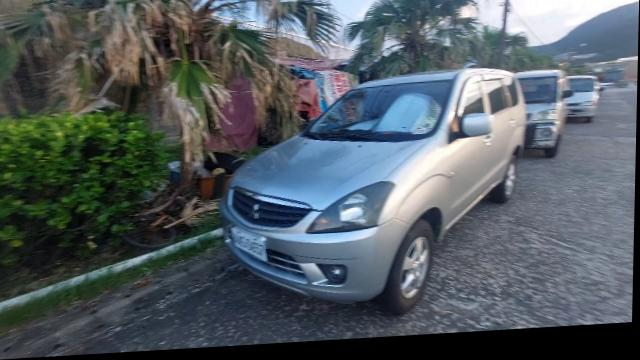pollute: (124, 156, 250, 251), (266, 58, 362, 133), (206, 80, 259, 155)
